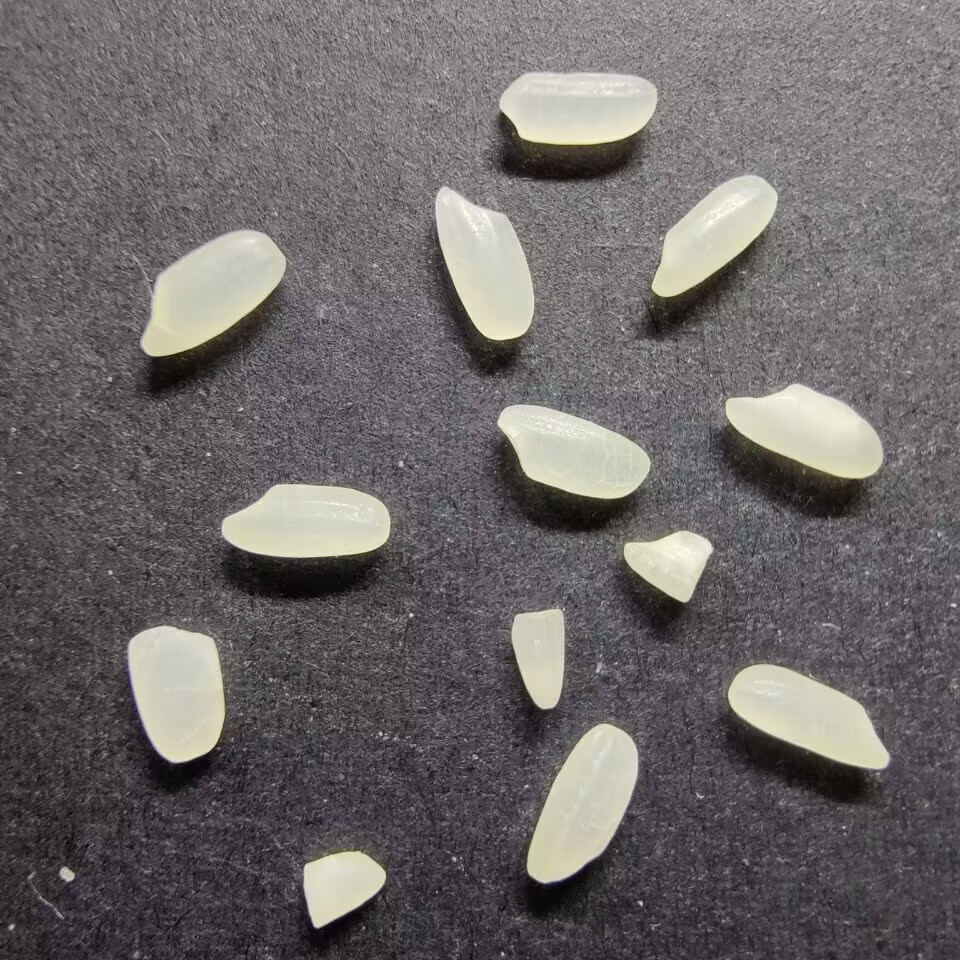broken: (123, 624, 227, 764), (299, 850, 388, 931), (621, 529, 712, 604), (508, 607, 568, 711)
rice: (135, 227, 288, 358), (725, 661, 891, 774), (526, 723, 641, 885), (648, 173, 779, 299), (432, 185, 537, 341), (723, 380, 884, 481), (493, 403, 652, 499), (219, 481, 391, 560), (496, 68, 659, 147)
